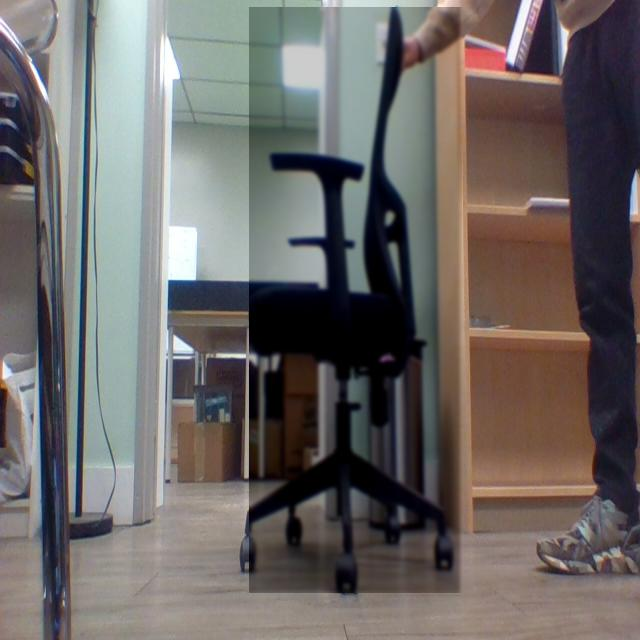black-chair: (250, 7, 463, 594)
